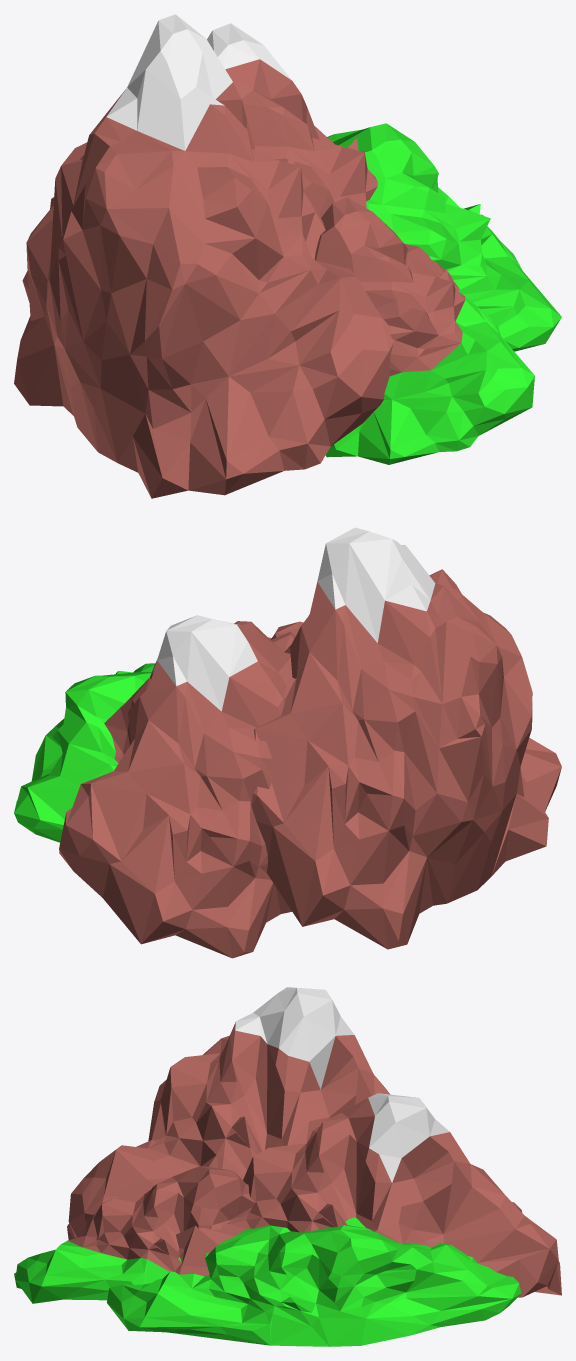
File: Mountain.gltf
The picture shows the model from 3 angles, top to bottom: view 1: azimuth 30°, elevation 25°; view 2: azimuth 150°, elevation 25°; view 3: azimuth 270°, elevation 25°; orthographic projection. The views are drawn at different scales.
Parts seen in each view (by area): view 1: node-0; view 2: node-0; view 3: node-0.
Part boxes in pixels (left/top/right/bottom): node-0: left=14, top=14, right=561, bottom=498; node-0: left=14, top=527, right=561, bottom=958; node-0: left=14, top=987, right=561, bottom=1346.
Size of the model in its own units: 164170 by 138129 by 221236.
